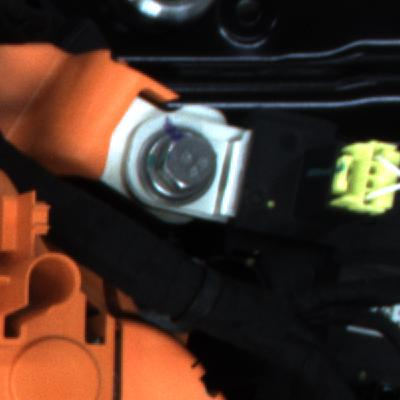nut_b: (137, 126, 233, 204)
